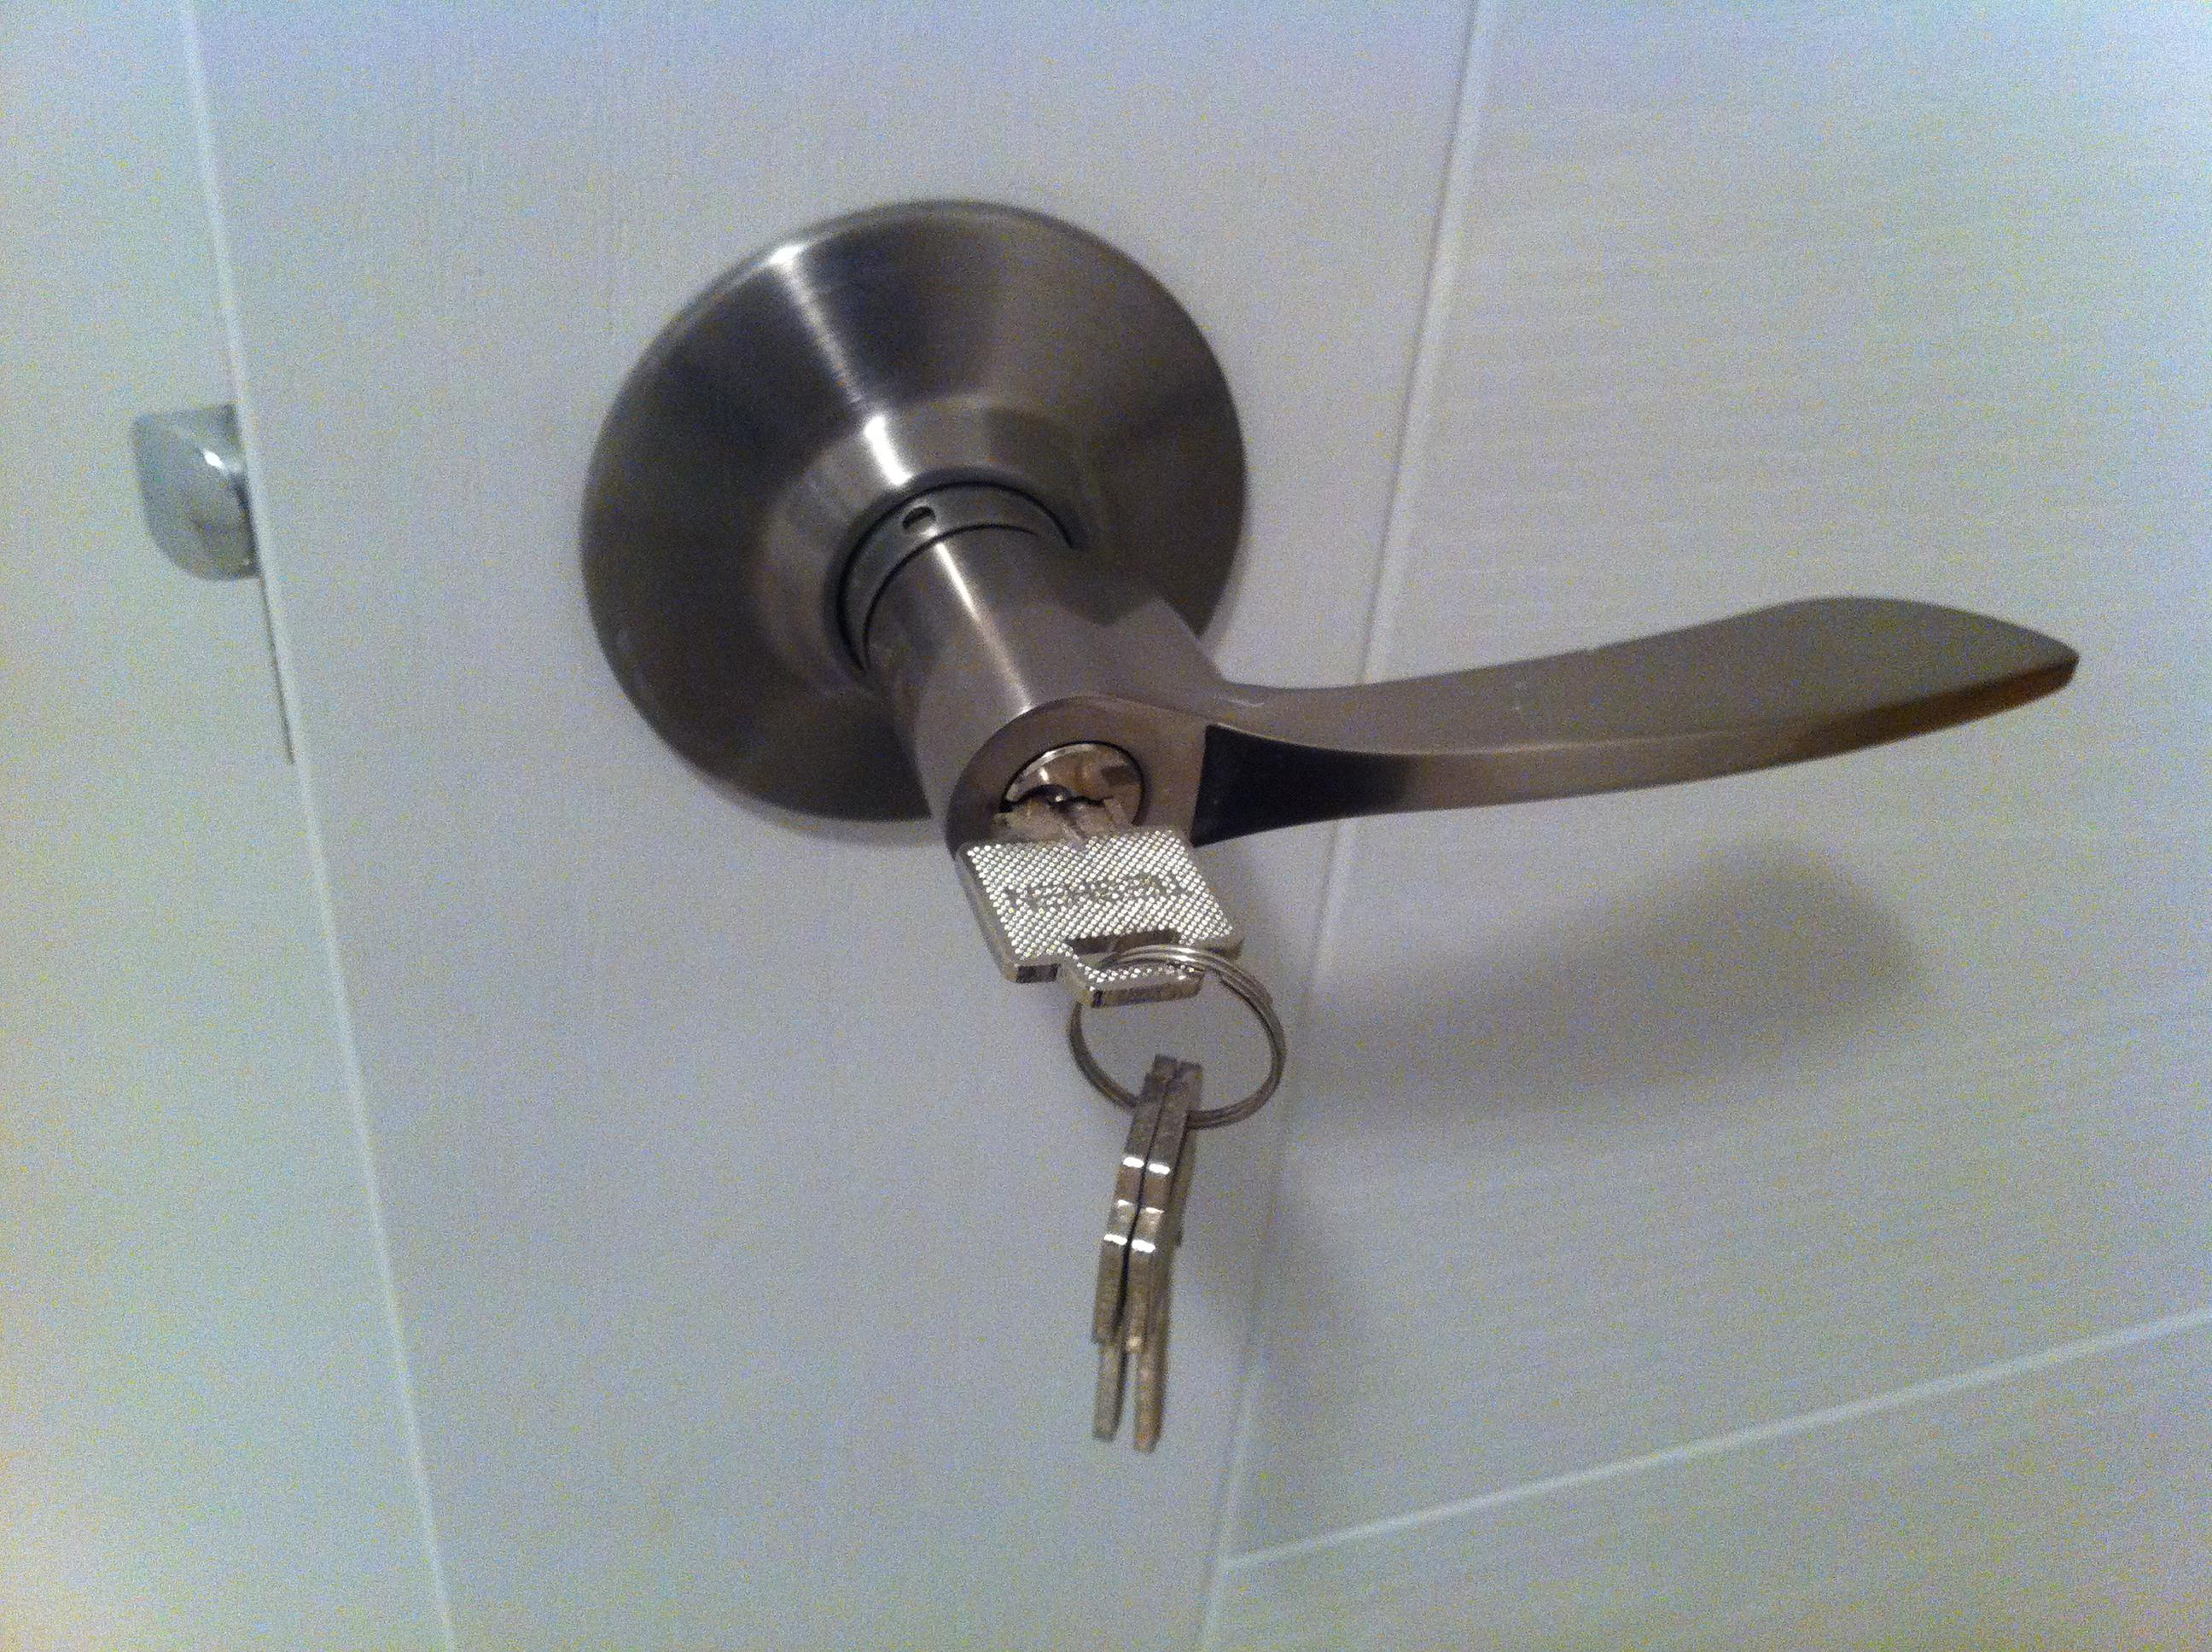doorhandle: (744, 449, 2137, 979)
